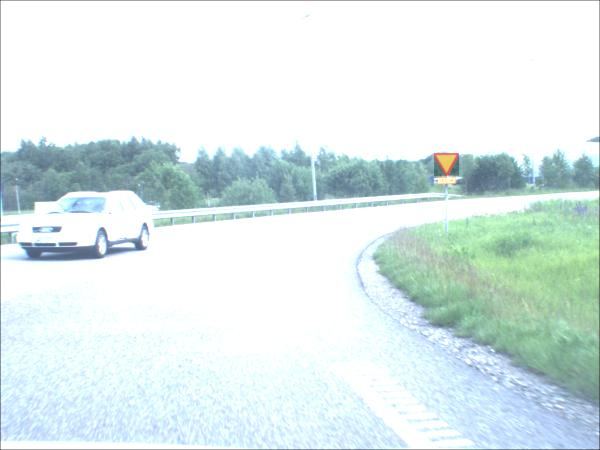GIVE_WAY: (435, 155, 461, 179)
